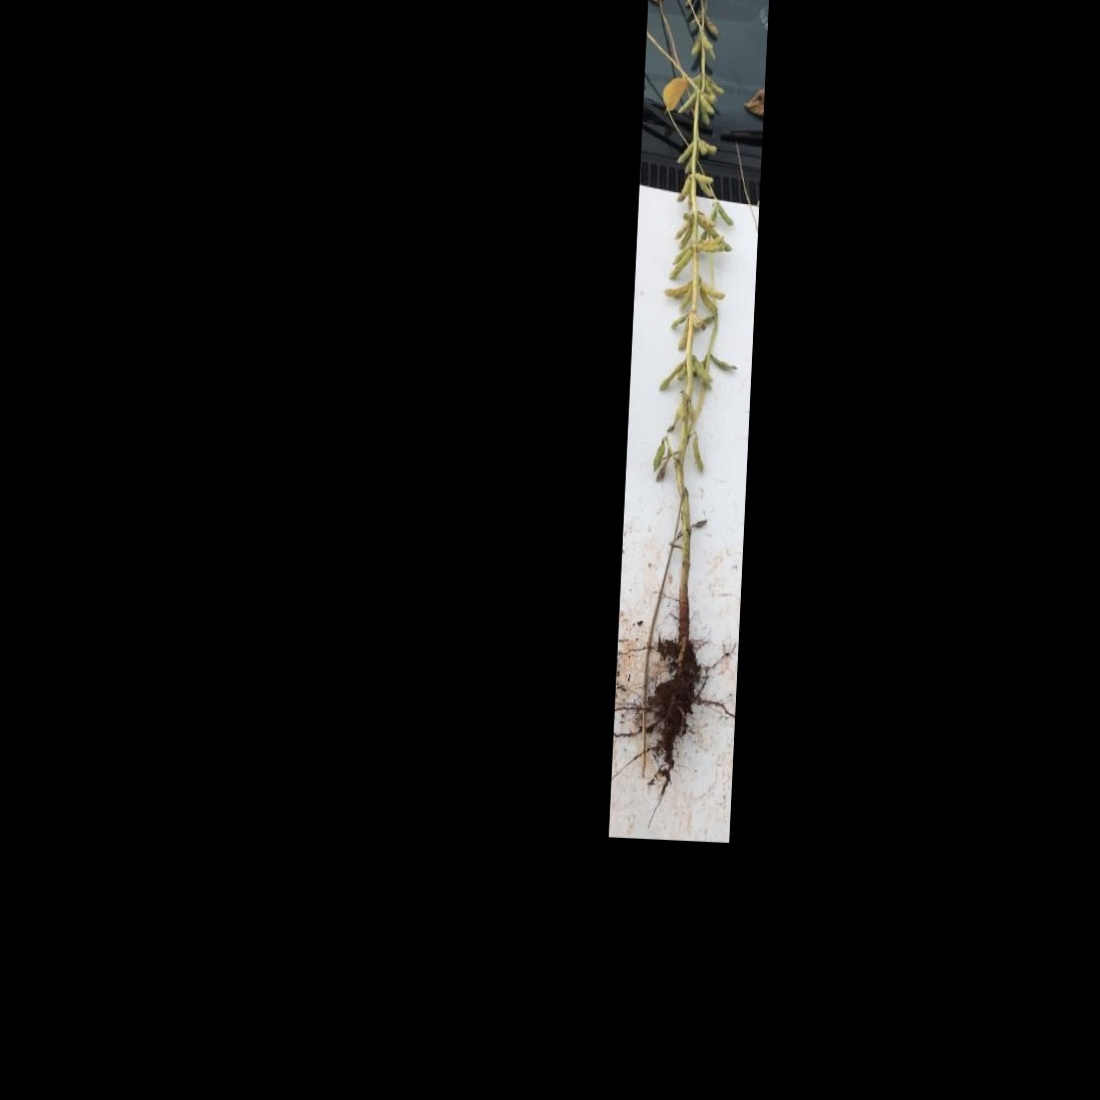pod: (685, 430, 709, 477), (709, 351, 740, 375), (643, 441, 666, 473), (696, 288, 721, 317), (674, 90, 698, 118), (673, 174, 692, 204), (717, 202, 737, 228), (675, 140, 695, 165), (703, 11, 722, 36), (674, 324, 689, 352), (680, 286, 693, 311), (668, 313, 689, 328), (693, 170, 715, 184)
soy: (617, 0, 769, 798)
